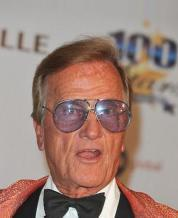face: (62, 105, 119, 163)
